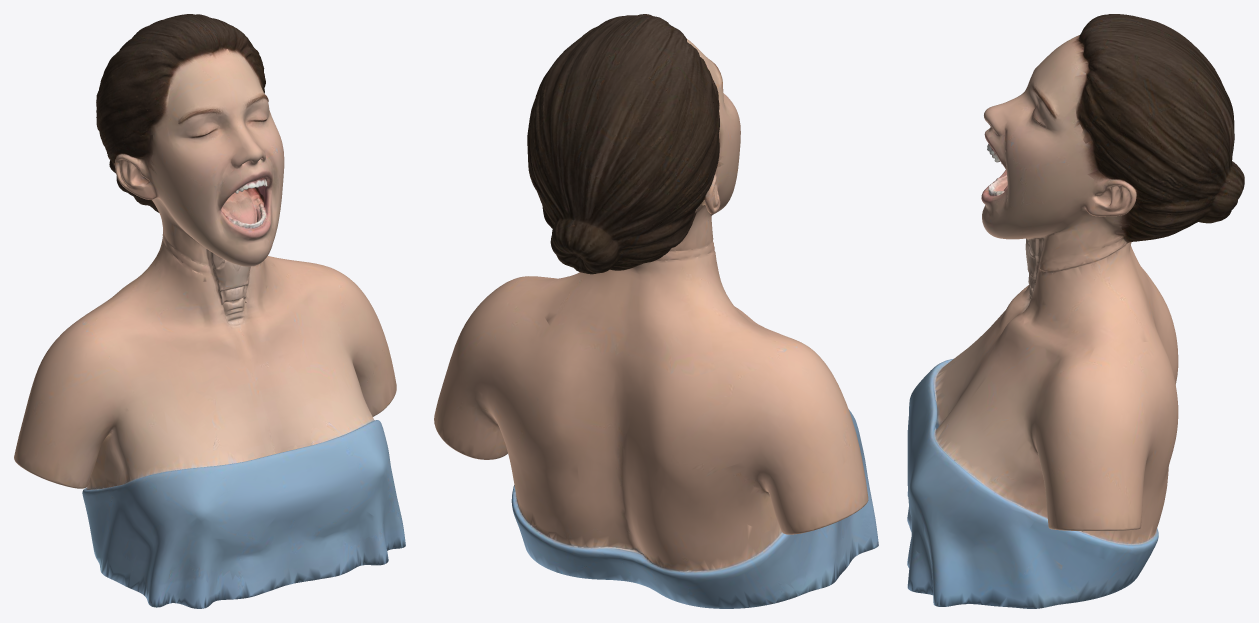
File: patient-context.glb
3 views of the same model, side by side, from view 1: azimuth 30°, elevation 25°; view 2: azimuth 150°, elevation 25°; view 3: azimuth 270°, elevation 25° (orthographic). The views are drawn at different scales.
Parts seen in each view (by area): view 1: patient-context-01; view 2: patient-context-01; view 3: patient-context-01.
Boxes of the visible parts, x1=… form: patient-context-01: x1=14, y1=14, x2=405, y2=608; patient-context-01: x1=434, y1=14, x2=878, y2=608; patient-context-01: x1=907, y1=14, x2=1244, y2=608.
Bounding box in the file's own units: 1.56 × 2 × 1.17.
1 material, 1 textured.
